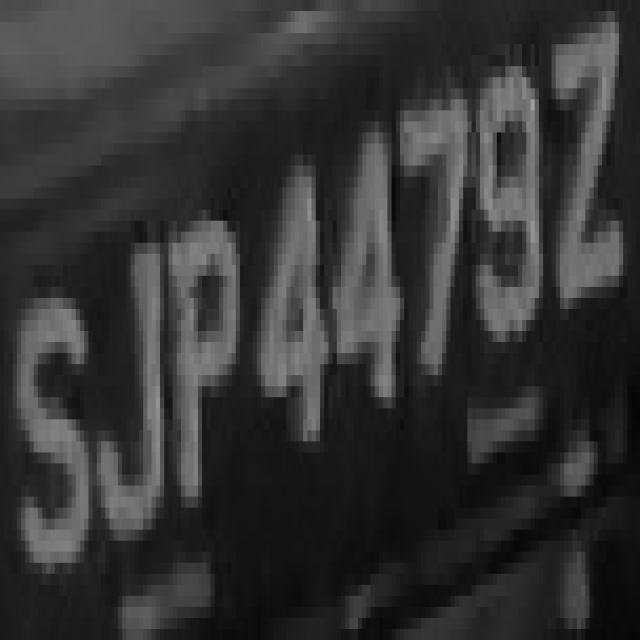4: (253, 110, 341, 486), (328, 88, 412, 474)
7: (392, 44, 468, 419)
9: (463, 55, 556, 397)
J: (84, 210, 173, 530)
P: (152, 220, 248, 497)
S: (8, 232, 92, 629)
Z: (543, 33, 640, 375)
